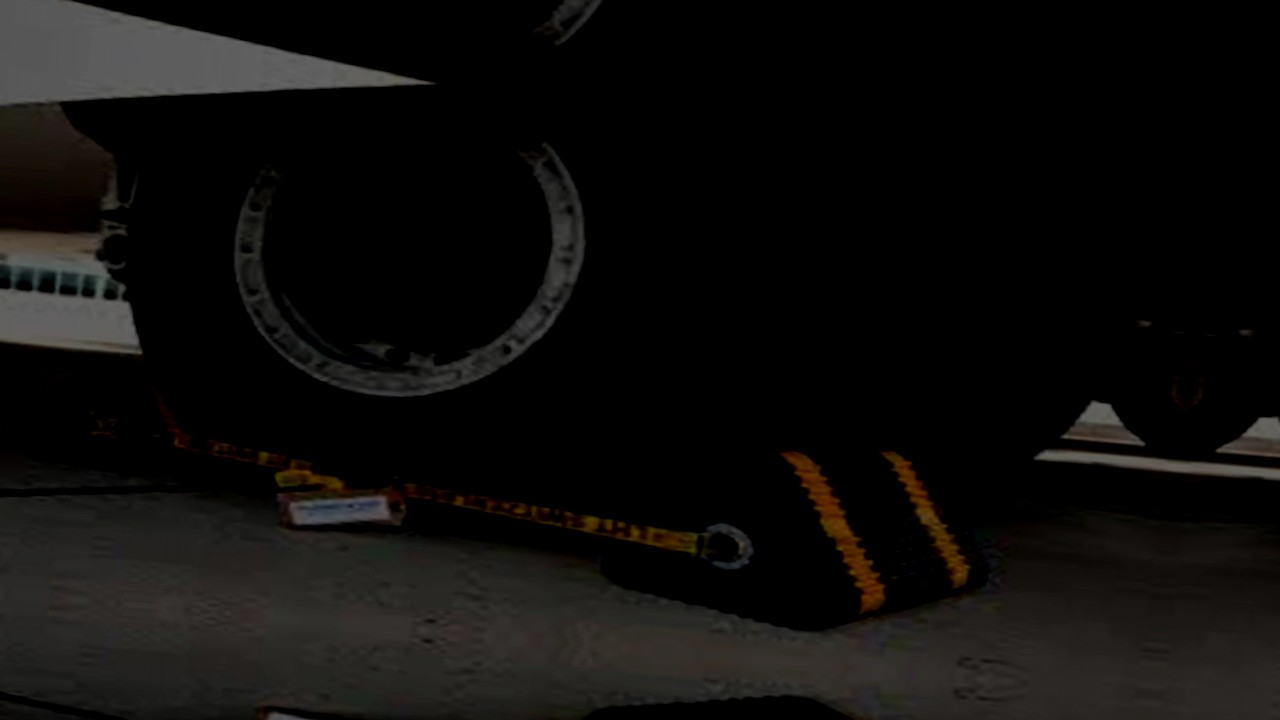chock: (589, 422, 1007, 645), (29, 349, 193, 475)
wheel: (66, 57, 978, 551), (818, 121, 1136, 504), (862, 0, 1180, 145), (1101, 330, 1195, 452), (1181, 337, 1275, 459)
